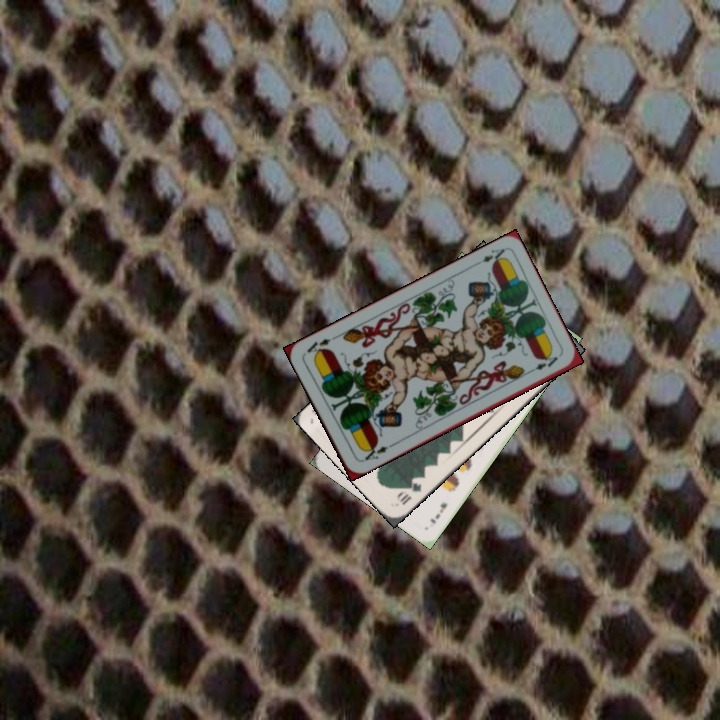E7: (426, 498, 450, 526)
EA: (358, 440, 396, 465), (470, 244, 508, 269)
G10: (393, 478, 424, 508)
